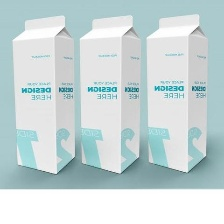carton: (8, 12, 77, 176), (145, 11, 210, 175), (76, 14, 141, 176)
